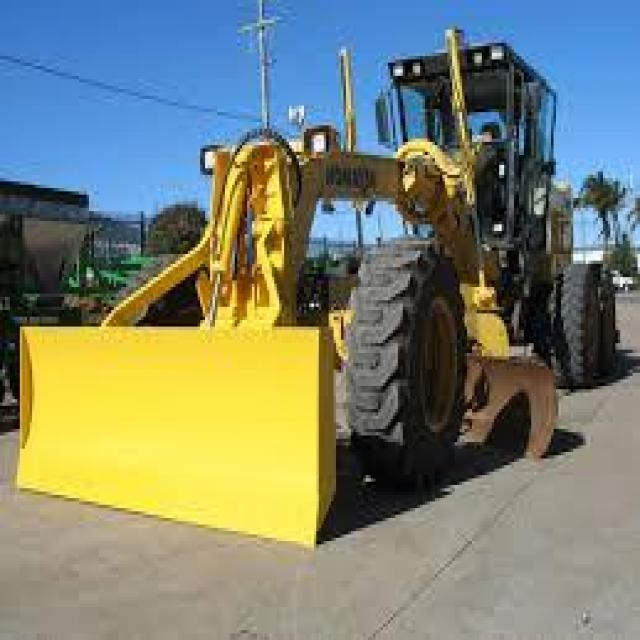Grader: (30, 23, 622, 535)
